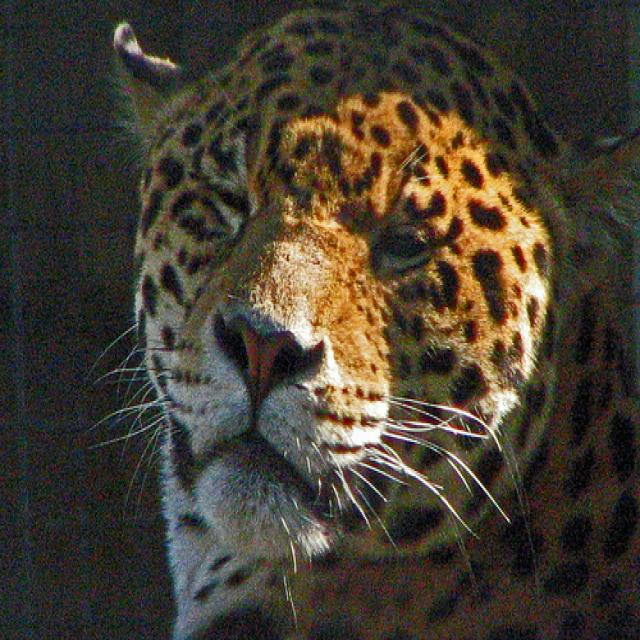Leopard: (75, 0, 638, 637)
